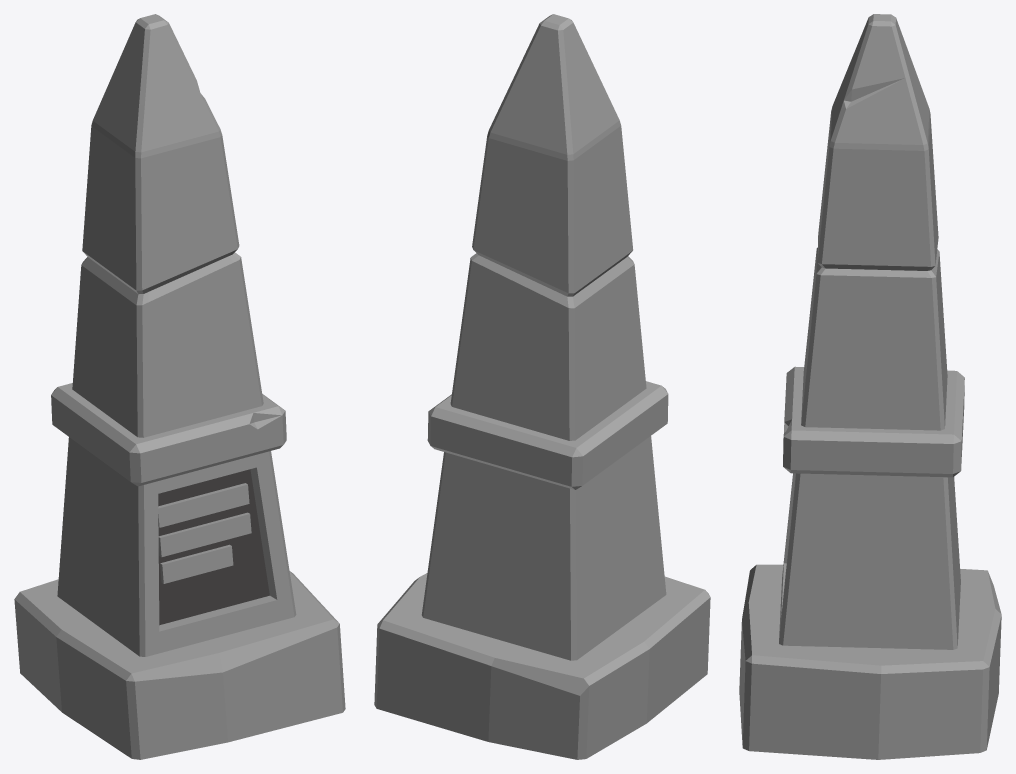
File: Isl_1_Tombstone_3.fbx
The picture shows the model from 3 angles, left to right: view 1: azimuth 30°, elevation 25°; view 2: azimuth 150°, elevation 25°; view 3: azimuth 270°, elevation 25°; orthographic projection.
Parts seen in each view (by area): view 1: Isl_1_Tombstone_3; view 2: Isl_1_Tombstone_3; view 3: Isl_1_Tombstone_3.
Boxes of the visible parts, left/top/right/bottom form: Isl_1_Tombstone_3: left=14, top=14, right=345, bottom=759; Isl_1_Tombstone_3: left=374, top=14, right=710, bottom=759; Isl_1_Tombstone_3: left=739, top=14, right=1001, bottom=759.
Size of the model in its own units: 214 by 204 by 575.
Materials: 1 (1 with a texture image).
